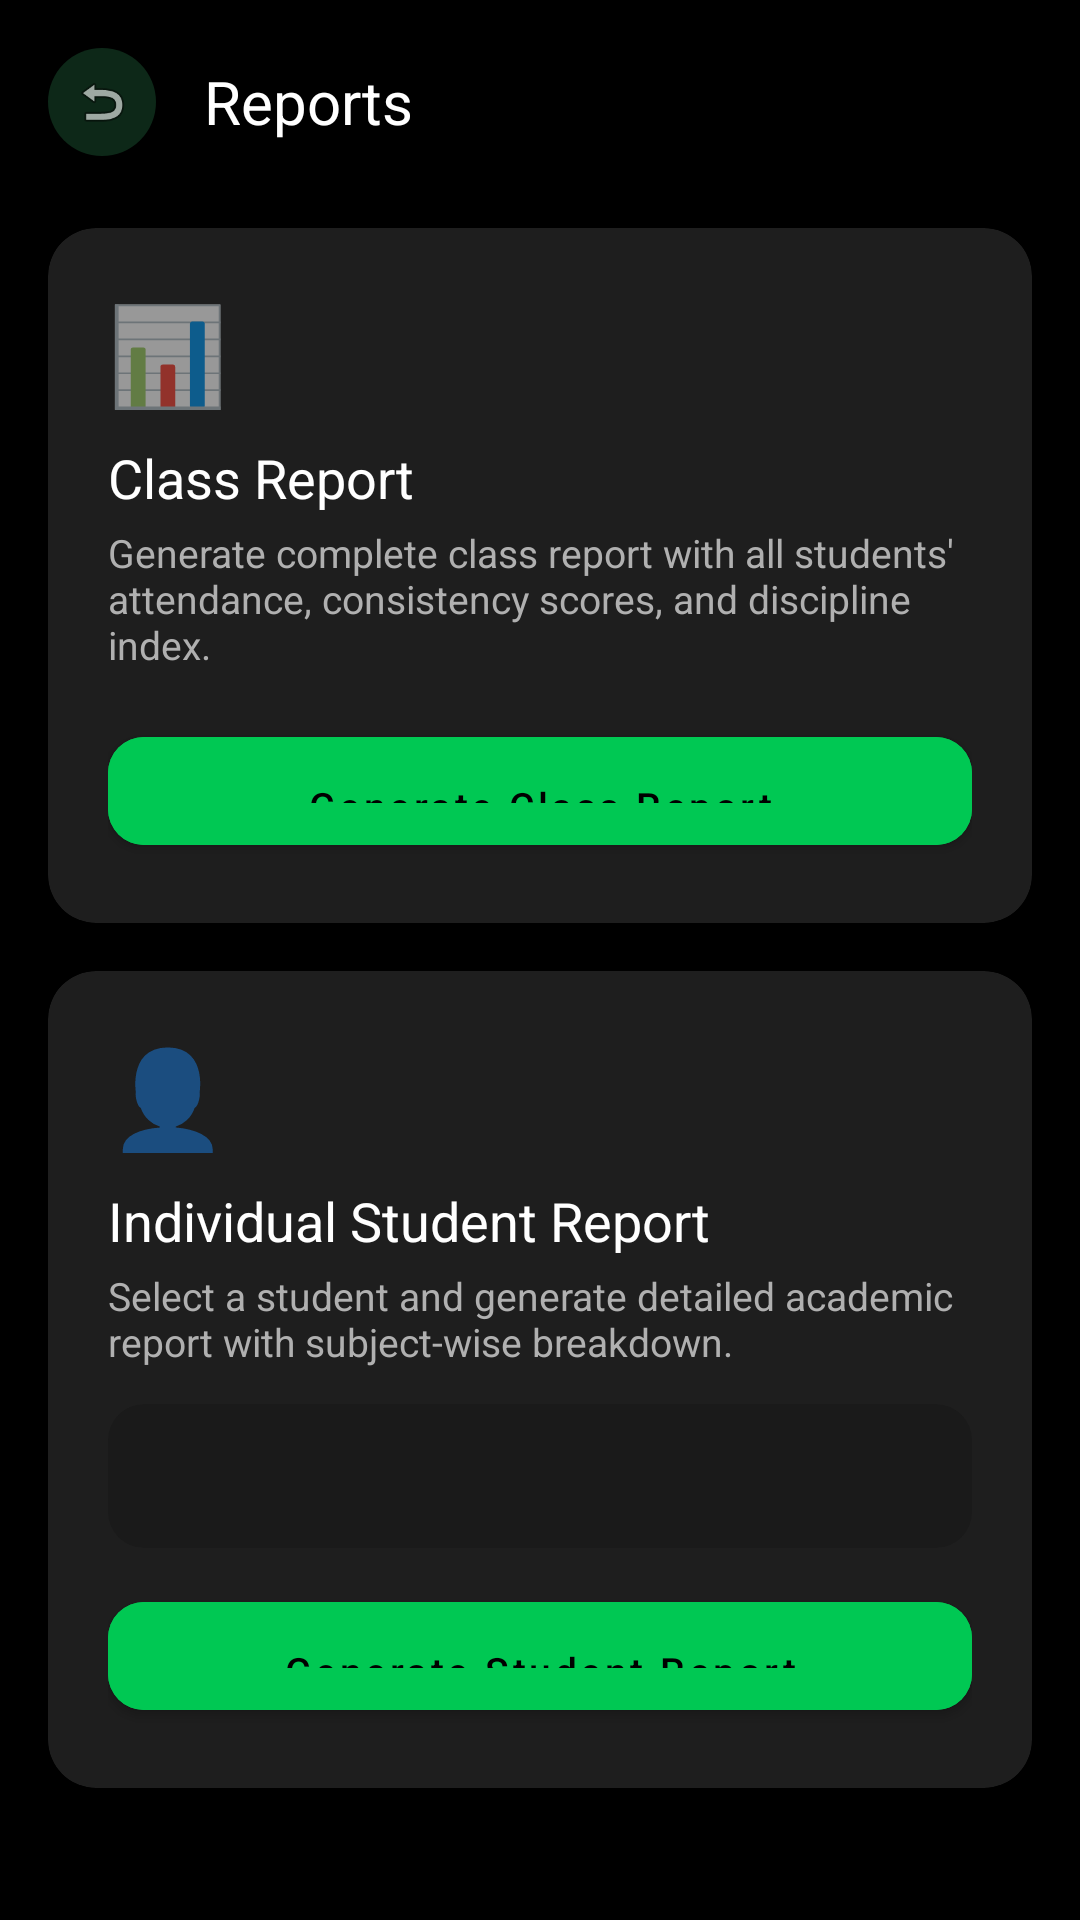

Where icons sit on this 1080 x 1920 app screen, as (x1, y1, x2, y2):
revert: (48, 48, 156, 156)
